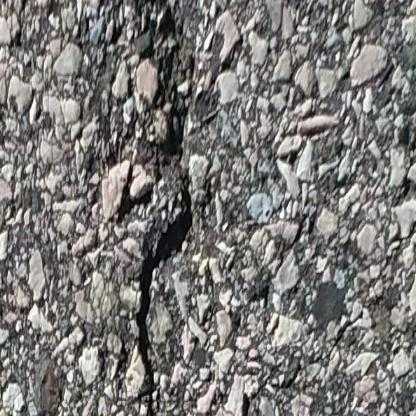Cracks: (132, 0, 210, 416)
